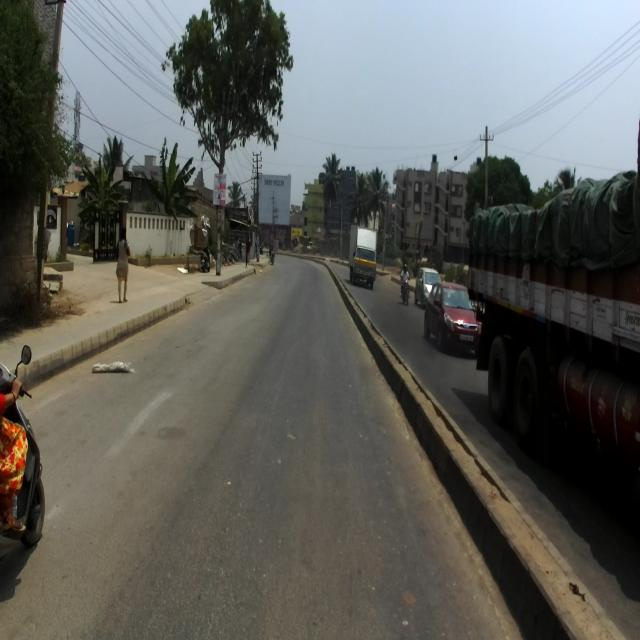motorcycle ahead at: (0, 341, 47, 590)
person ahead at: (113, 226, 132, 299)
